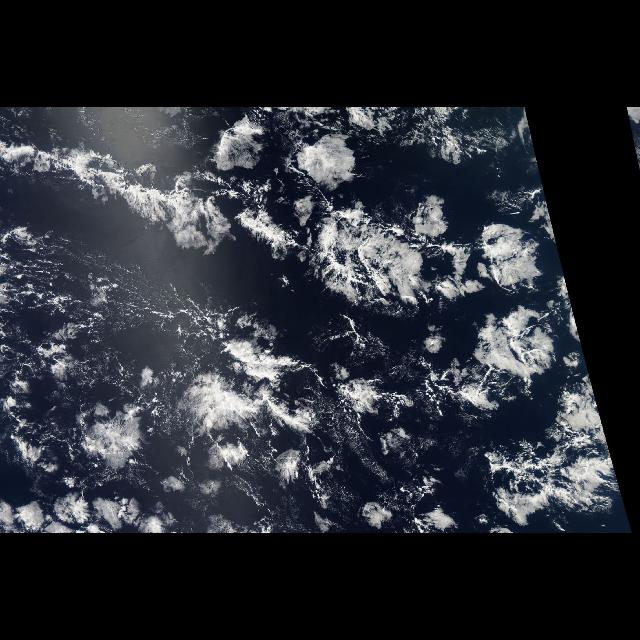Fish: (0, 136, 576, 372)
Flower: (4, 311, 558, 534), (196, 107, 418, 185)
